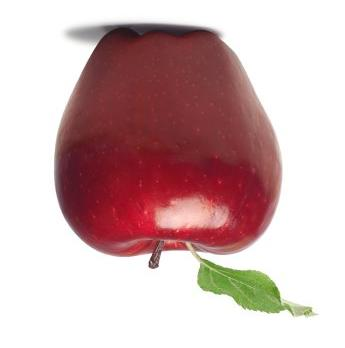apple: (0, 0, 345, 348)
